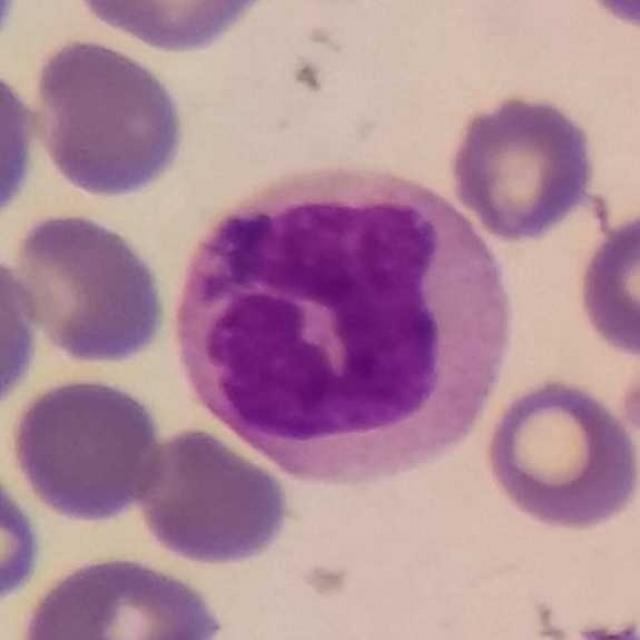Monocyte: (175, 156, 510, 482)
RBC: (28, 33, 191, 204), (4, 207, 172, 370), (480, 374, 639, 535), (6, 372, 170, 526), (444, 89, 602, 244), (131, 424, 296, 570), (17, 550, 228, 640), (66, 0, 282, 56), (571, 200, 640, 364), (0, 55, 42, 232), (0, 245, 43, 416), (0, 459, 46, 611), (616, 343, 640, 452), (572, 0, 640, 37)
